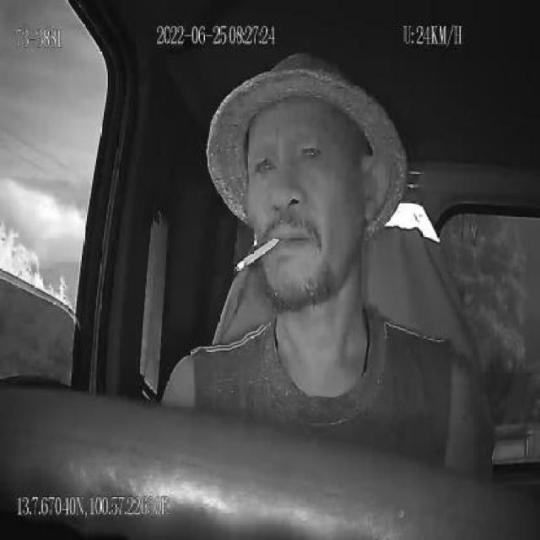smoking: (232, 232, 282, 274)
